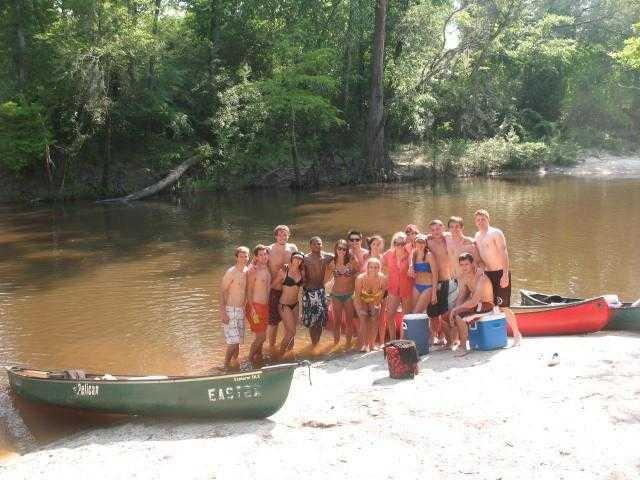kayak: (6, 363, 303, 422), (504, 294, 610, 336), (610, 298, 640, 330)
